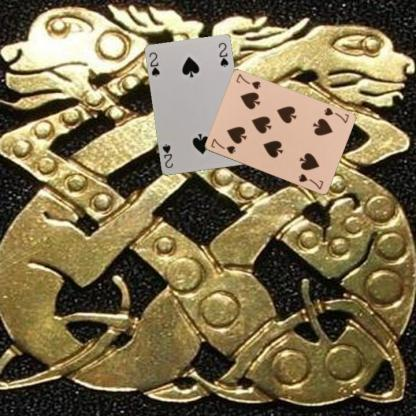2s: (147, 50, 161, 78)
7s: (321, 105, 350, 125), (208, 136, 236, 155)
